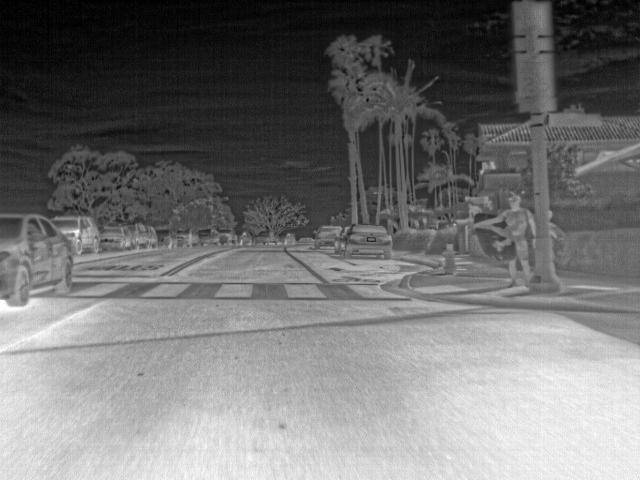car: (0, 212, 83, 307), (51, 214, 99, 253), (344, 223, 394, 260), (99, 225, 130, 251), (124, 224, 145, 249), (333, 225, 351, 254), (315, 224, 334, 249), (198, 226, 218, 246), (178, 227, 198, 247), (157, 228, 177, 248), (141, 225, 157, 249), (254, 228, 276, 244), (236, 228, 253, 244), (220, 228, 235, 244), (278, 229, 295, 242)
person: (472, 191, 530, 290)
